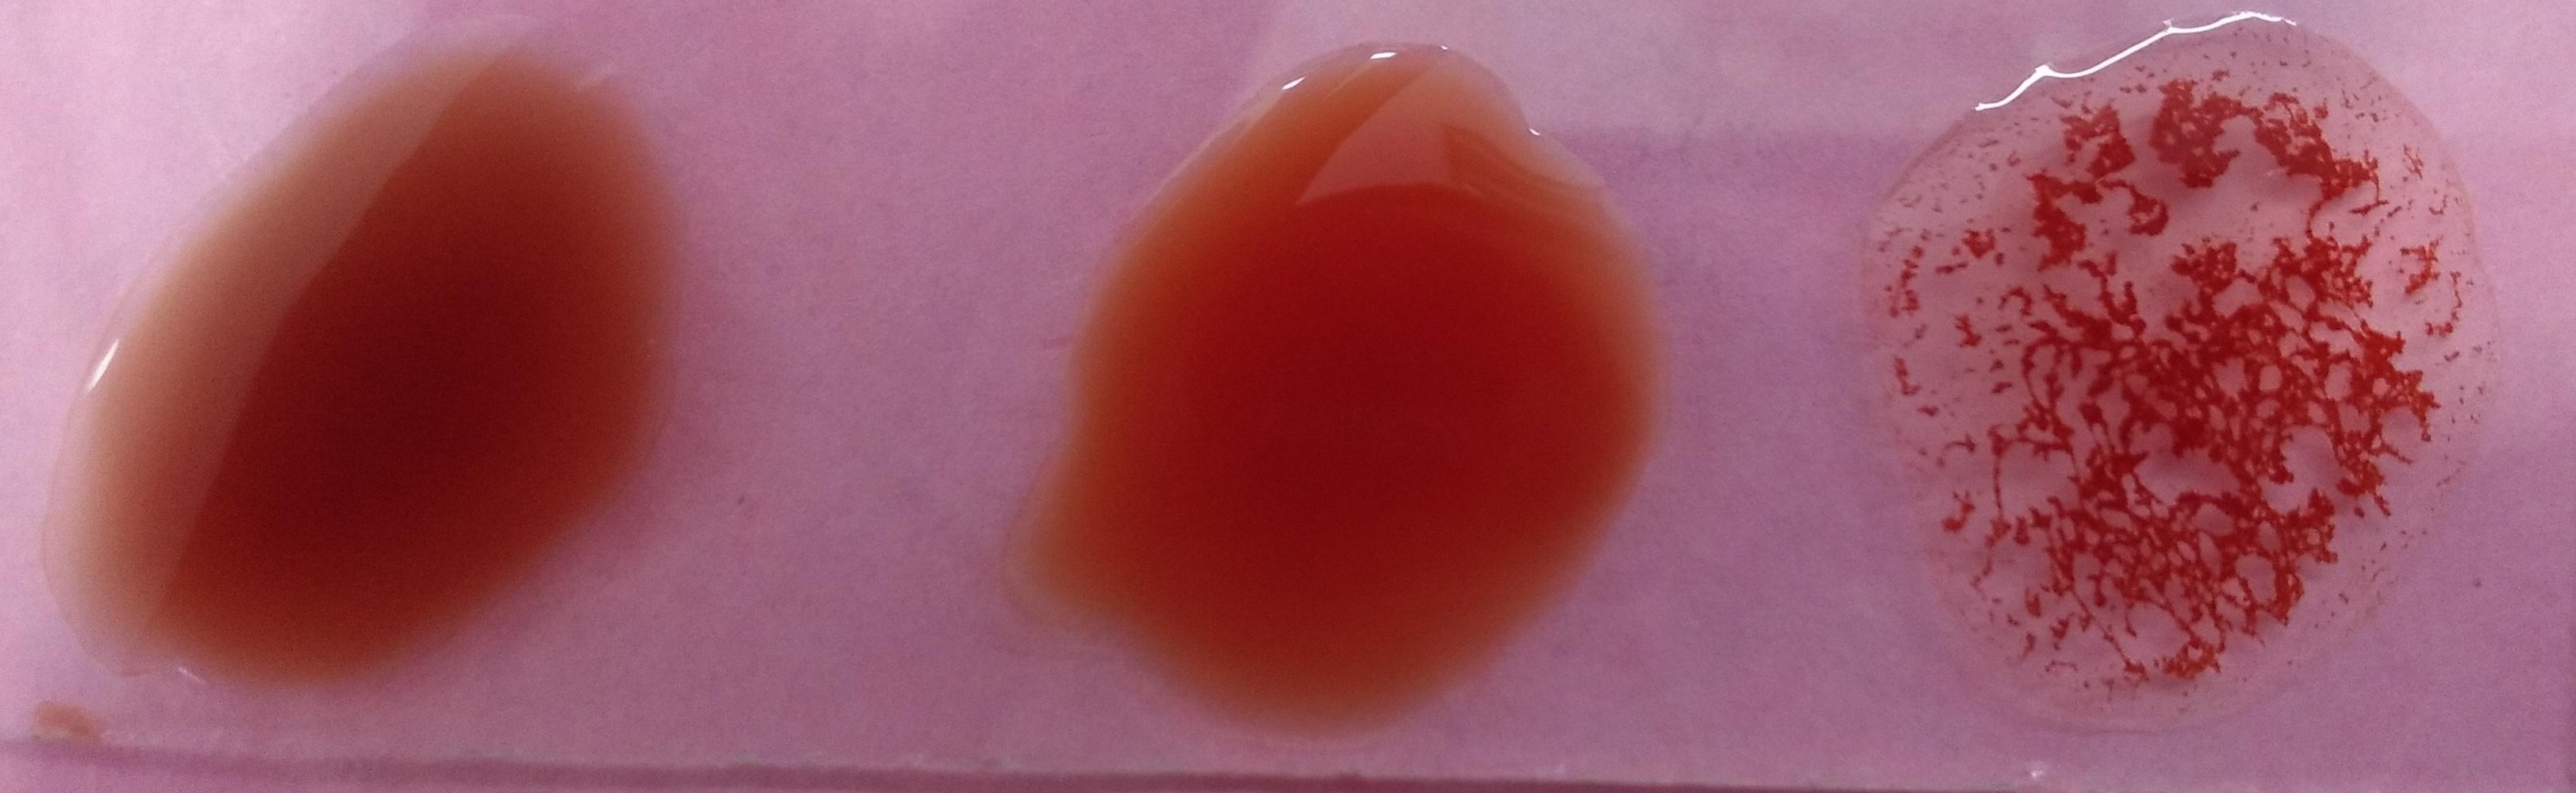D: (1873, 43, 2459, 735)
